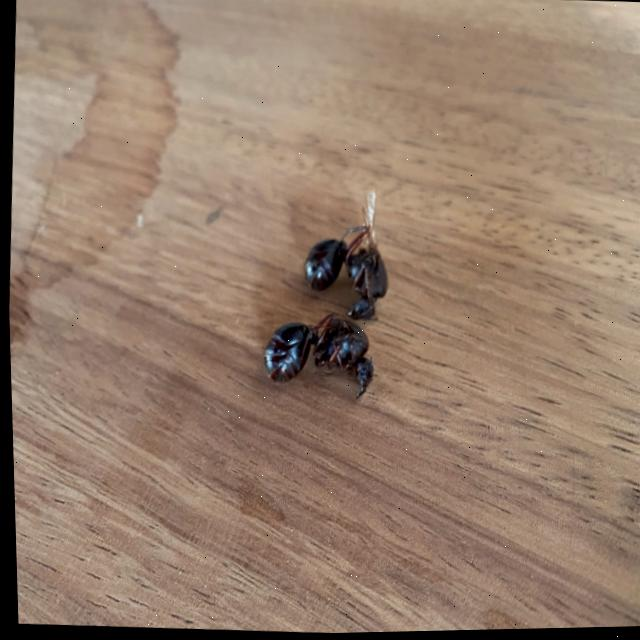Dead-Female-Alate: (297, 185, 393, 326)
Dead-Female-Dealate: (258, 309, 375, 403)
